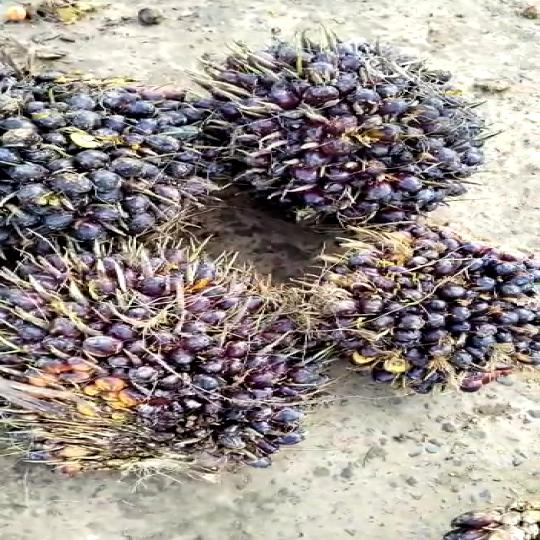mentah: (1, 243, 326, 473), (182, 28, 485, 238), (297, 217, 540, 404), (4, 58, 197, 256)
